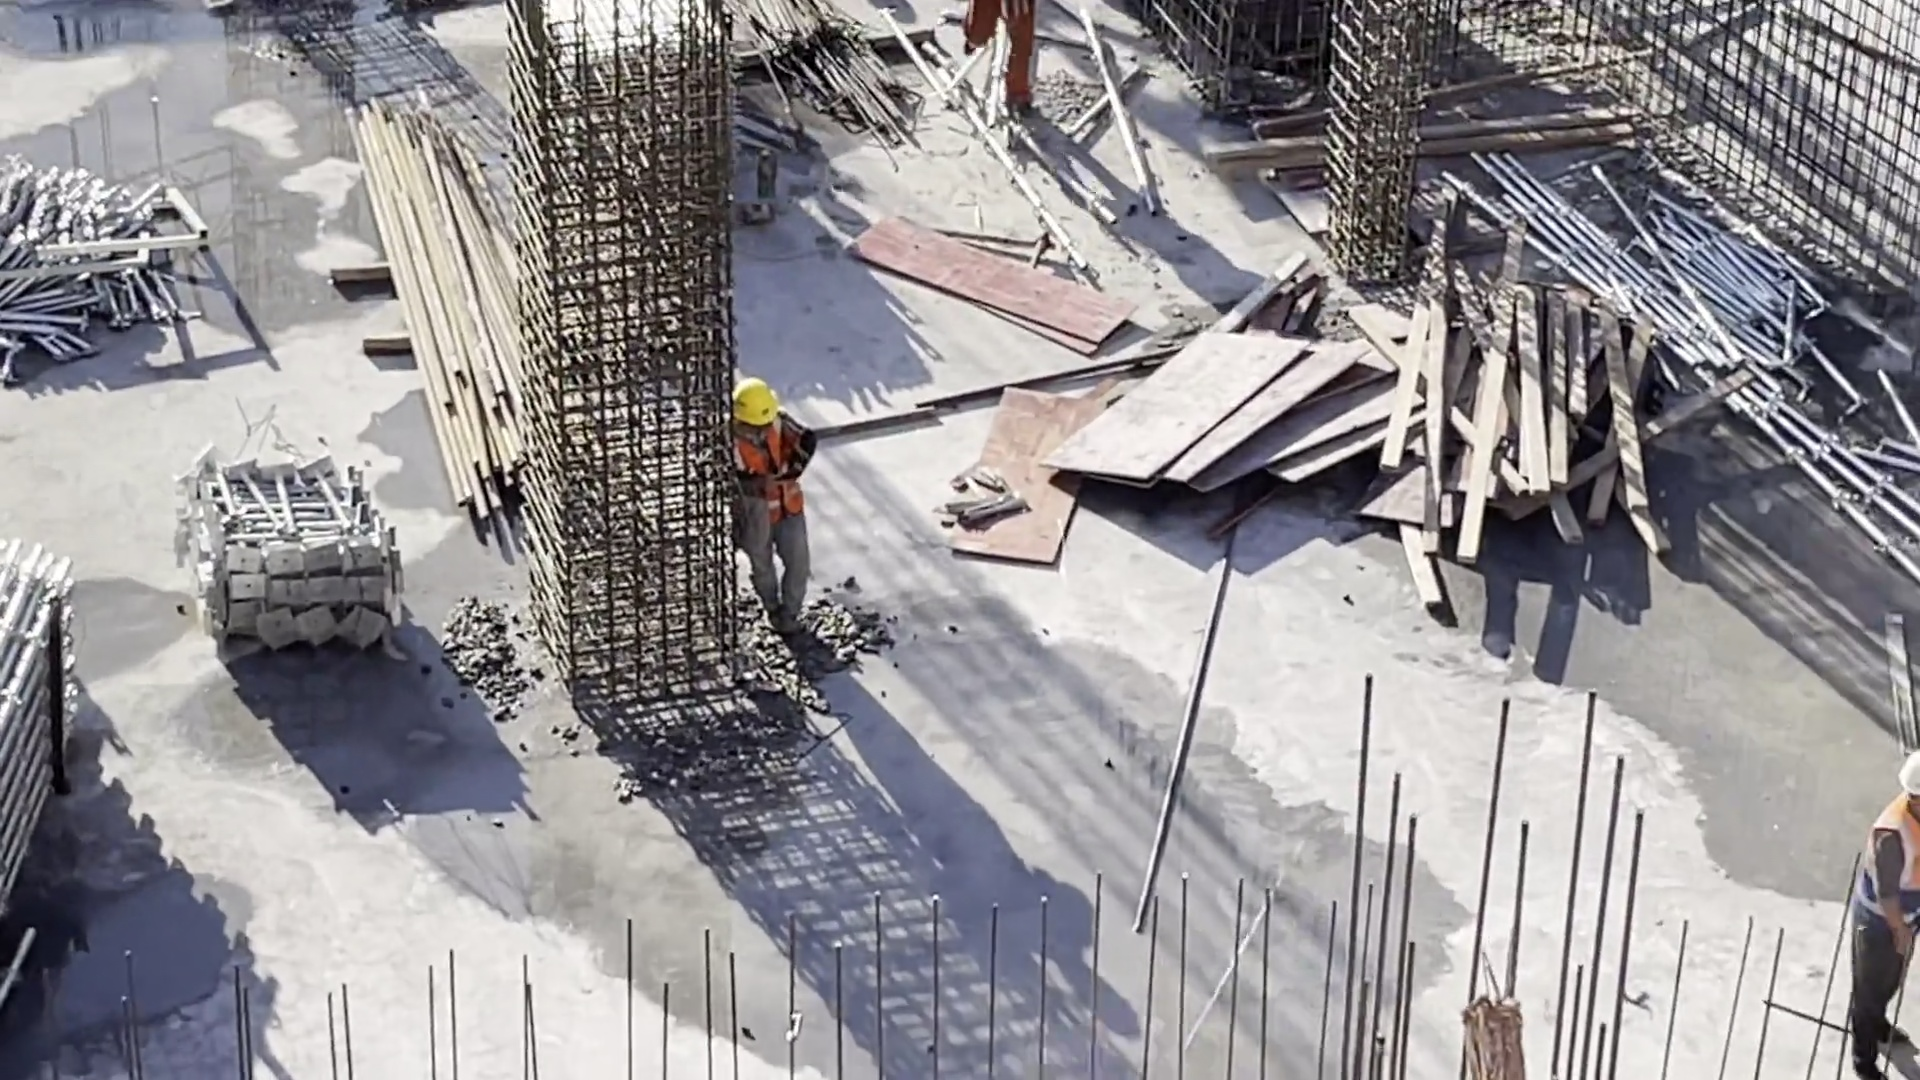board: (1054, 324, 1396, 500)
helmet: (726, 379, 782, 427), (1893, 745, 1920, 794)
person: (732, 338, 843, 608), (1844, 737, 1919, 1080), (954, 1, 1047, 116)
scaffold: (173, 455, 416, 664), (1, 152, 213, 373), (1, 527, 81, 896), (1644, 204, 1796, 362)
vest: (736, 412, 814, 513), (1860, 797, 1920, 919)
wood: (1387, 292, 1639, 537)
